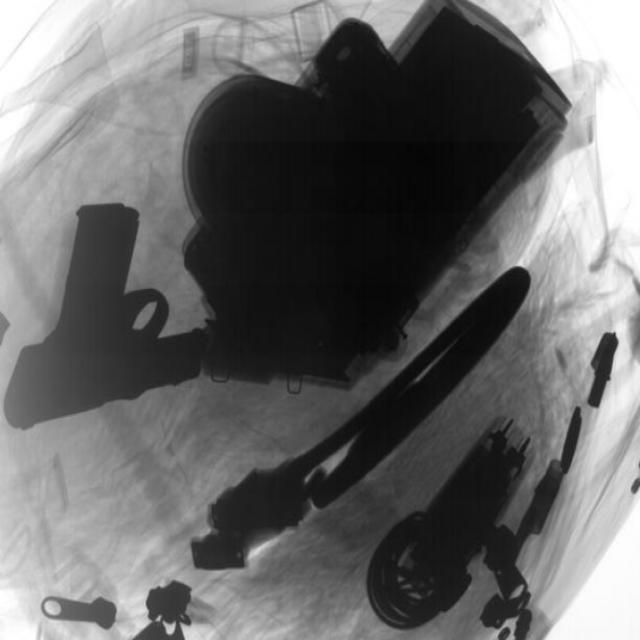GUN: (6, 204, 215, 437)
